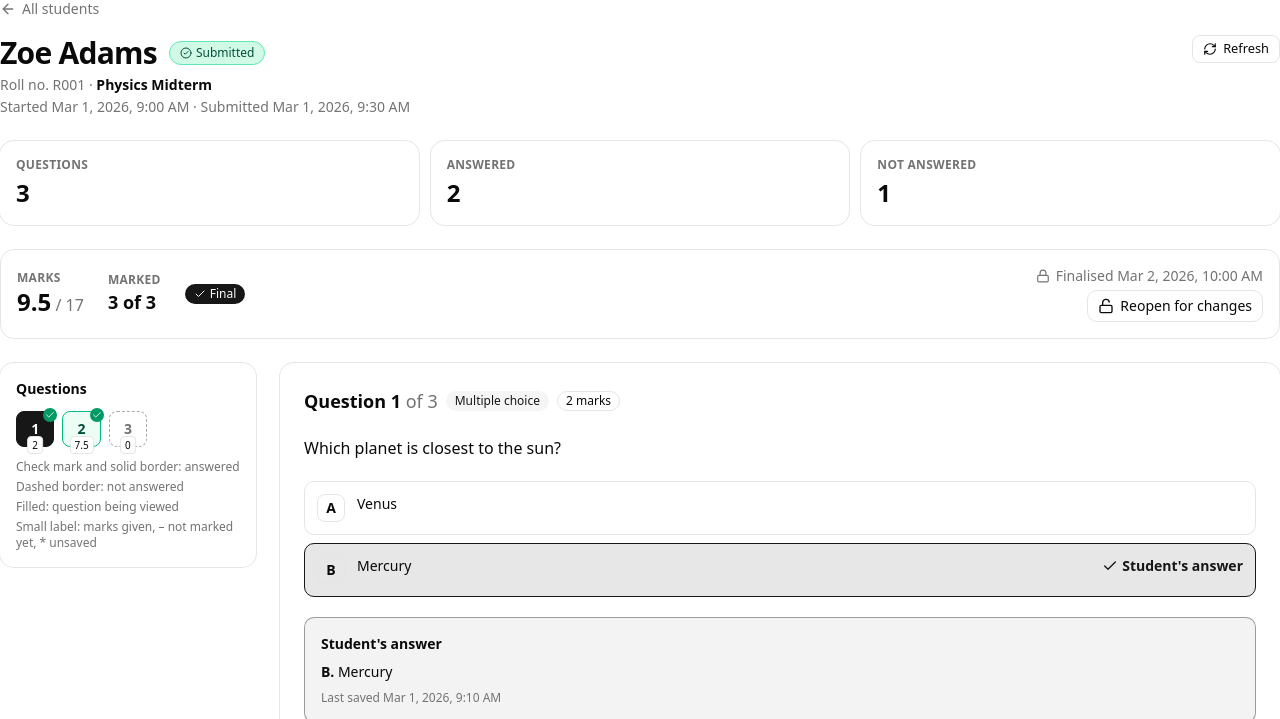
it: finalising and reopening a paper › will not reopen without a reason, then reopens with it trimmed
Expected: the element named "Paper marks" is shown, [17,270,245,318]
Click the button "Reopen for changes".
click(1175, 306)  # box [1087,290,1263,322]
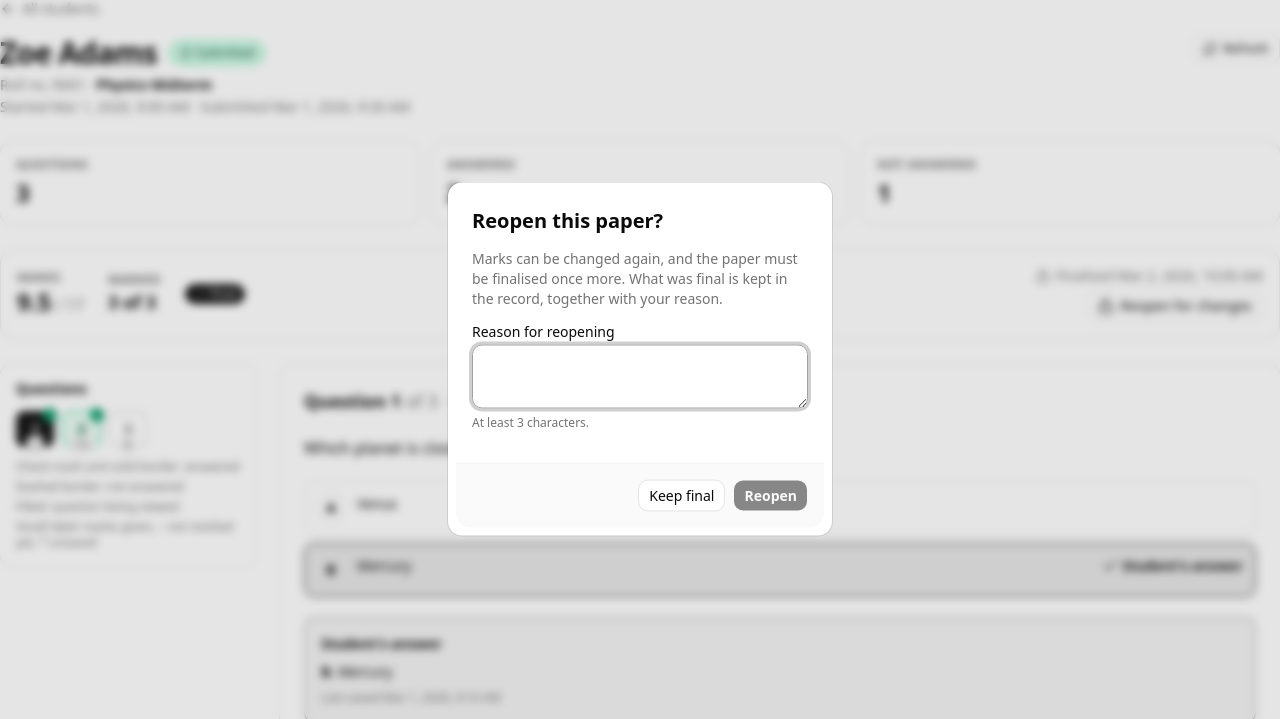
Expected: the button "Reopen" is disabled, [734,480,808,512]
Type "ab" into the text box labelled "Reason for reopening".
click(640, 376); type("ab")  # box [472,344,808,408]
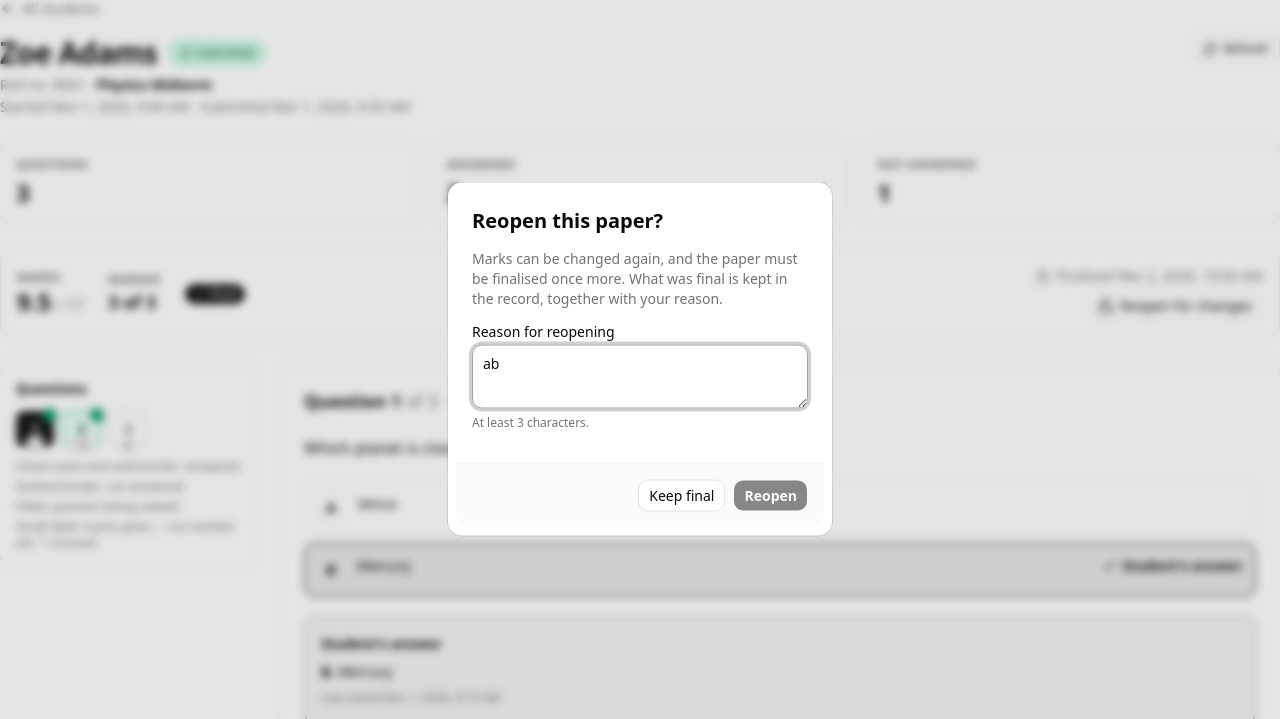
Expected: the button "Reopen" is disabled, [734,480,808,512]
Type "c  " into the text box labelled "Reason for reopening".
click(640, 376); type("c  ")  # box [472,344,808,408]
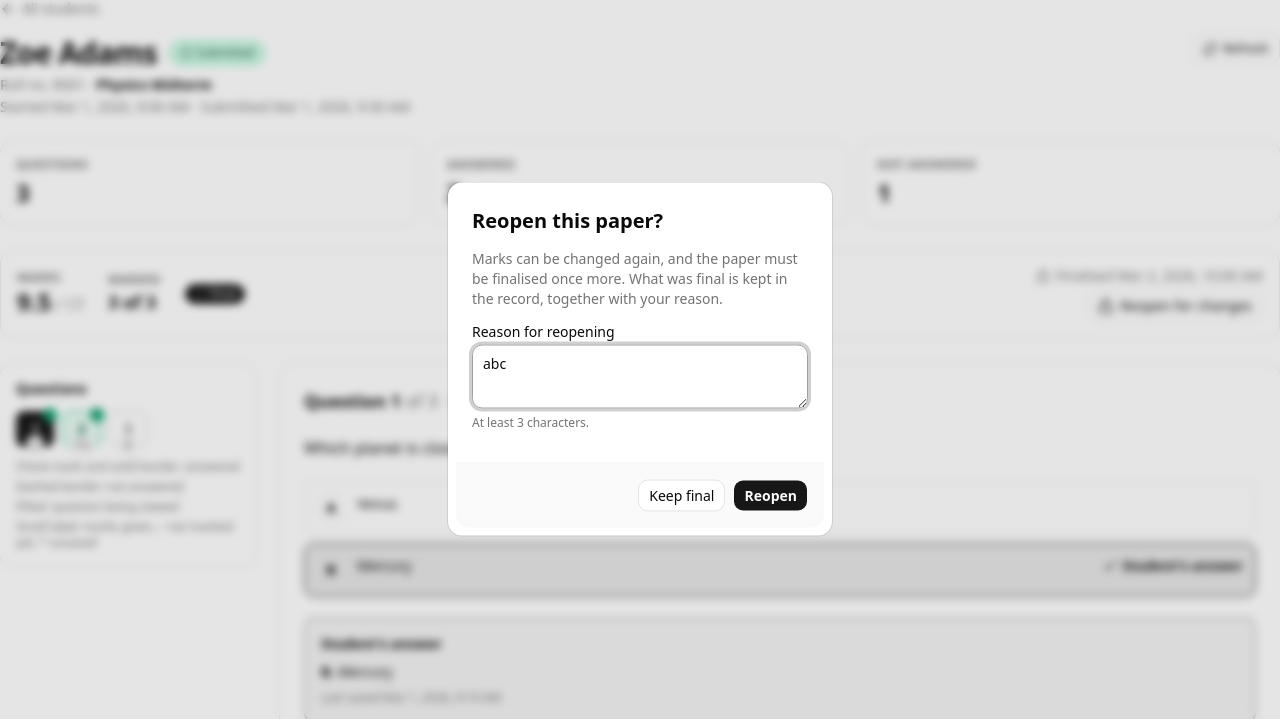
Expected: the button "Reopen" is enabled
Click the button "Reopen".
click(771, 496)  # box [734,480,808,512]
(page scrolled)
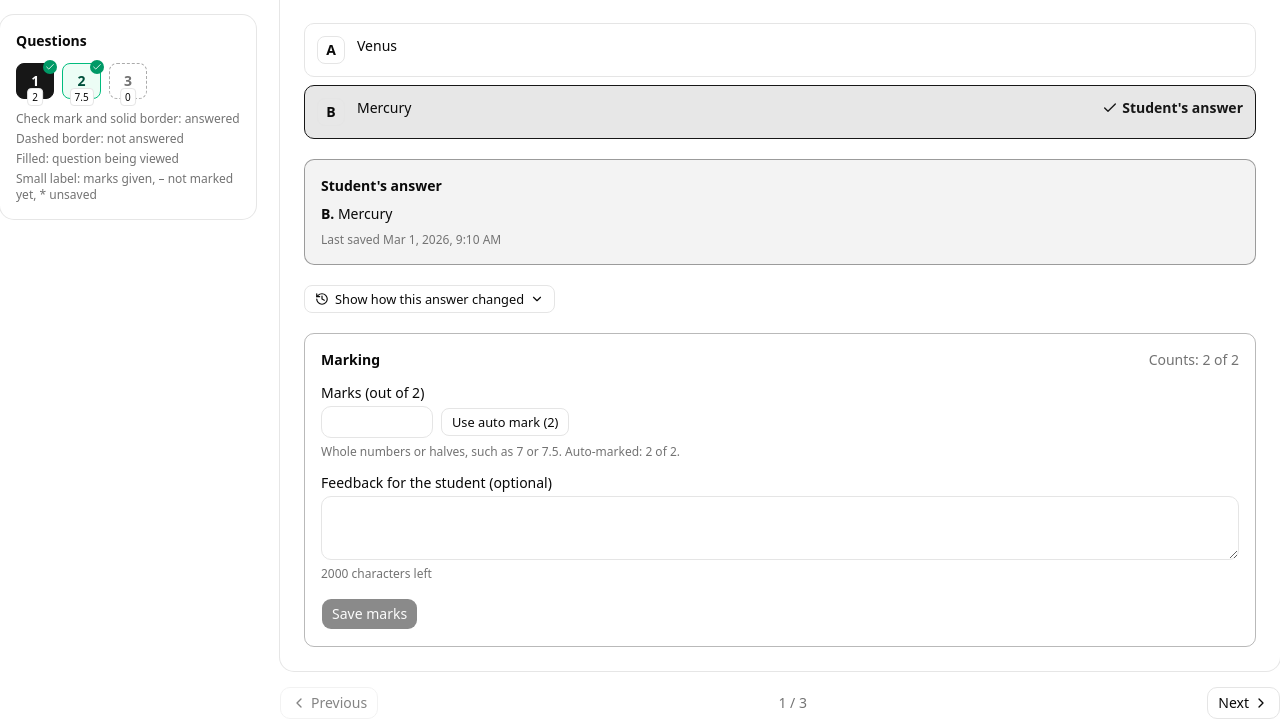
Expected: the dialog is gone
Expected: the field labelled "Marks (out of 2)" is shown, [321,406,433,438]
